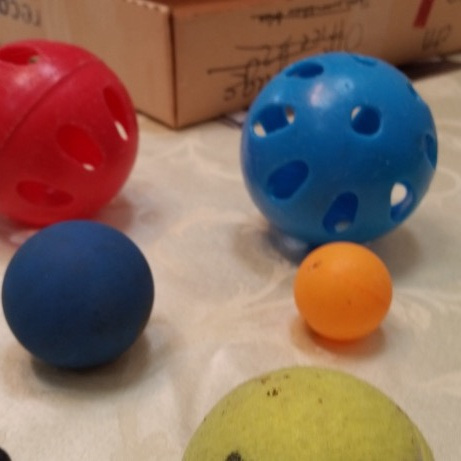blueball: (237, 47, 444, 251)
redball: (0, 36, 144, 233)
